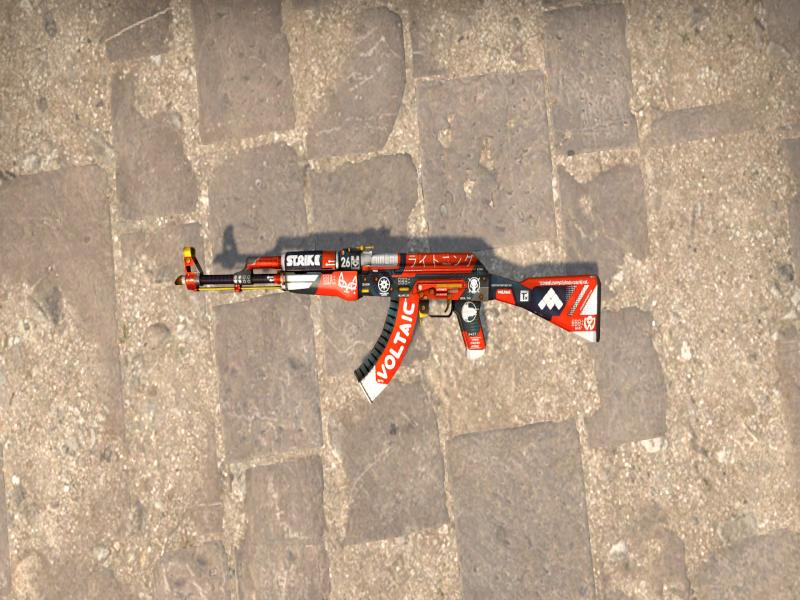AK47: (175, 246, 601, 399)
